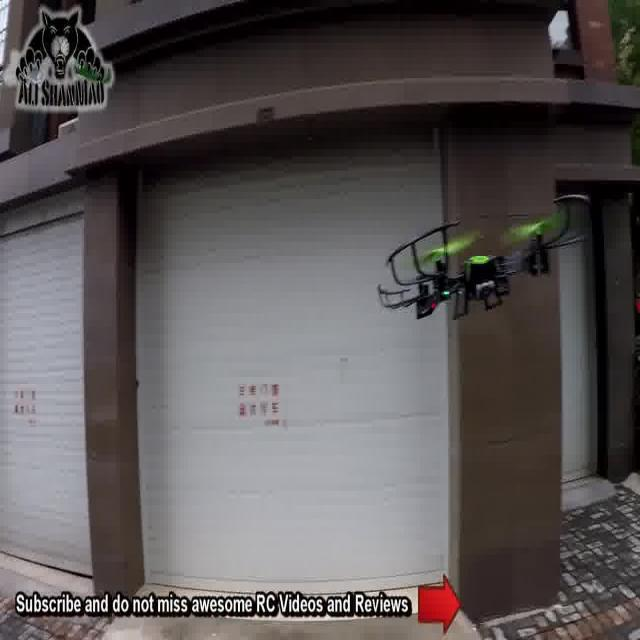drone: (373, 179, 597, 337)
